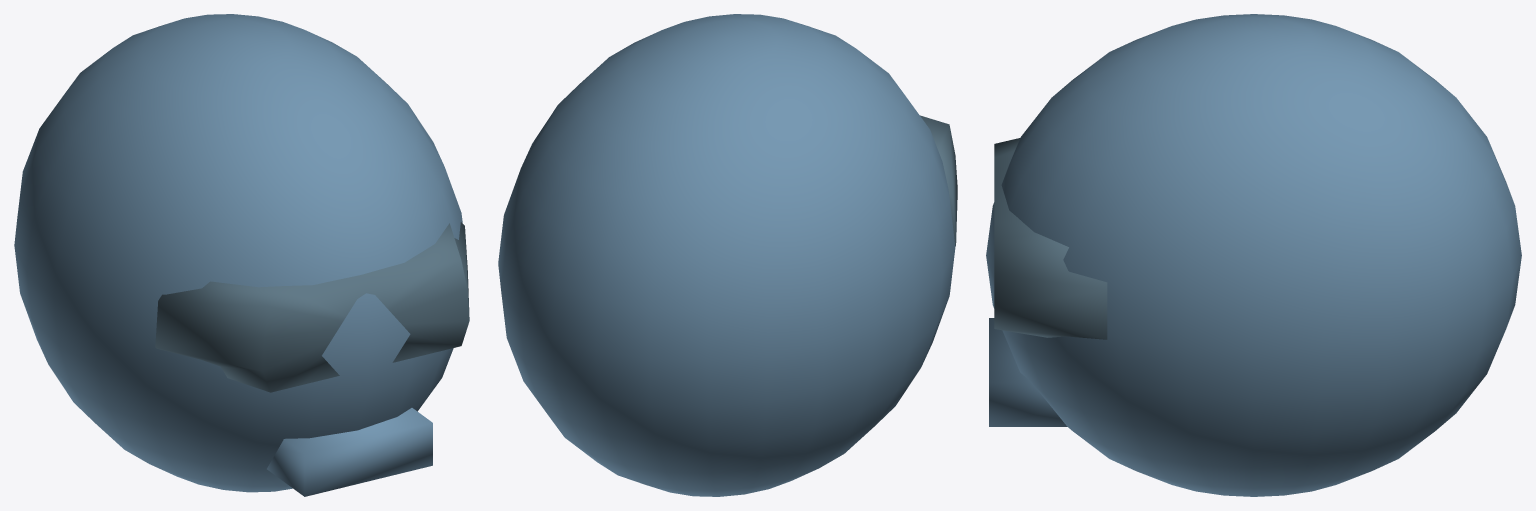
Rendered from helmet.glb.
3 renders of one model, left to right at view 1: azimuth 30°, elevation 25°; view 2: azimuth 150°, elevation 25°; view 3: azimuth 270°, elevation 25°, orthographic. The views are drawn at different scales.
Visible parts, largest first — view 1: helmet-on-stand; view 2: helmet-on-stand; view 3: helmet-on-stand.
Boxes of the visible parts, left/top/right/bottom form: helmet-on-stand: left=14, top=14, right=469, bottom=496; helmet-on-stand: left=498, top=14, right=957, bottom=496; helmet-on-stand: left=986, top=14, right=1521, bottom=496.
Size of the model in its own units: 0.32 by 0.352 by 0.384.
